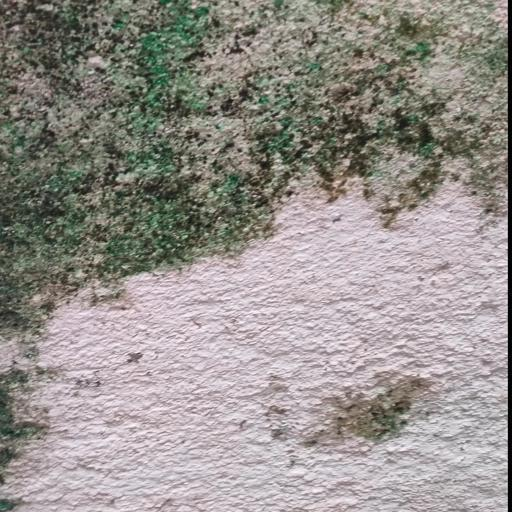algae: (0, 0, 511, 355)
